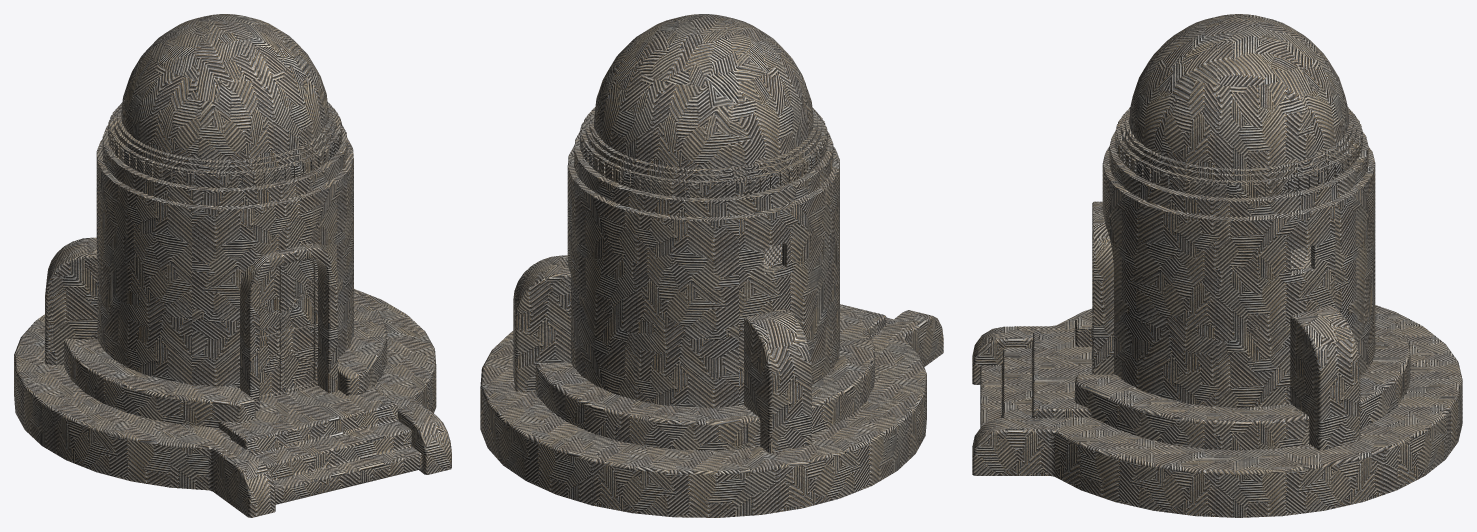
File: casa_tatooine_2.obj
The picture shows the model from 3 angles, left to right: view 1: azimuth 30°, elevation 25°; view 2: azimuth 150°, elevation 25°; view 3: azimuth 270°, elevation 25°; orthographic projection. The views are drawn at different scales.
Parts seen in each view (by area): view 1: export_SW_house_2_SWhouse2_mat_0, export_door1.001_door_mat_0; view 2: export_SW_house_2_SWhouse2_mat_0; view 3: export_SW_house_2_SWhouse2_mat_0.
Boxes of the visible parts, left/top/right/bottom form: export_SW_house_2_SWhouse2_mat_0: left=14, top=14, right=451, bottom=517; export_door1.001_door_mat_0: left=259, top=258, right=317, bottom=399; export_SW_house_2_SWhouse2_mat_0: left=480, top=14, right=943, bottom=517; export_SW_house_2_SWhouse2_mat_0: left=972, top=14, right=1462, bottom=517.
Bounding box in the file's own units: 1.02 × 1 × 1.11.
1 material, 1 textured.
